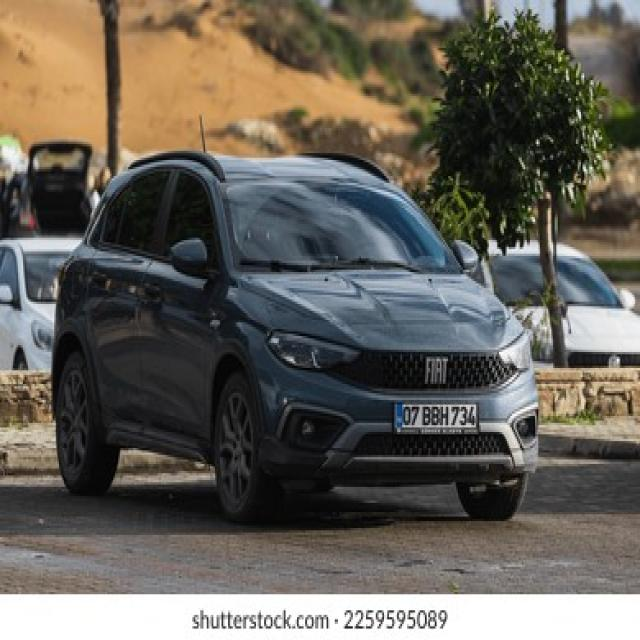fiat: (425, 356, 448, 388)
